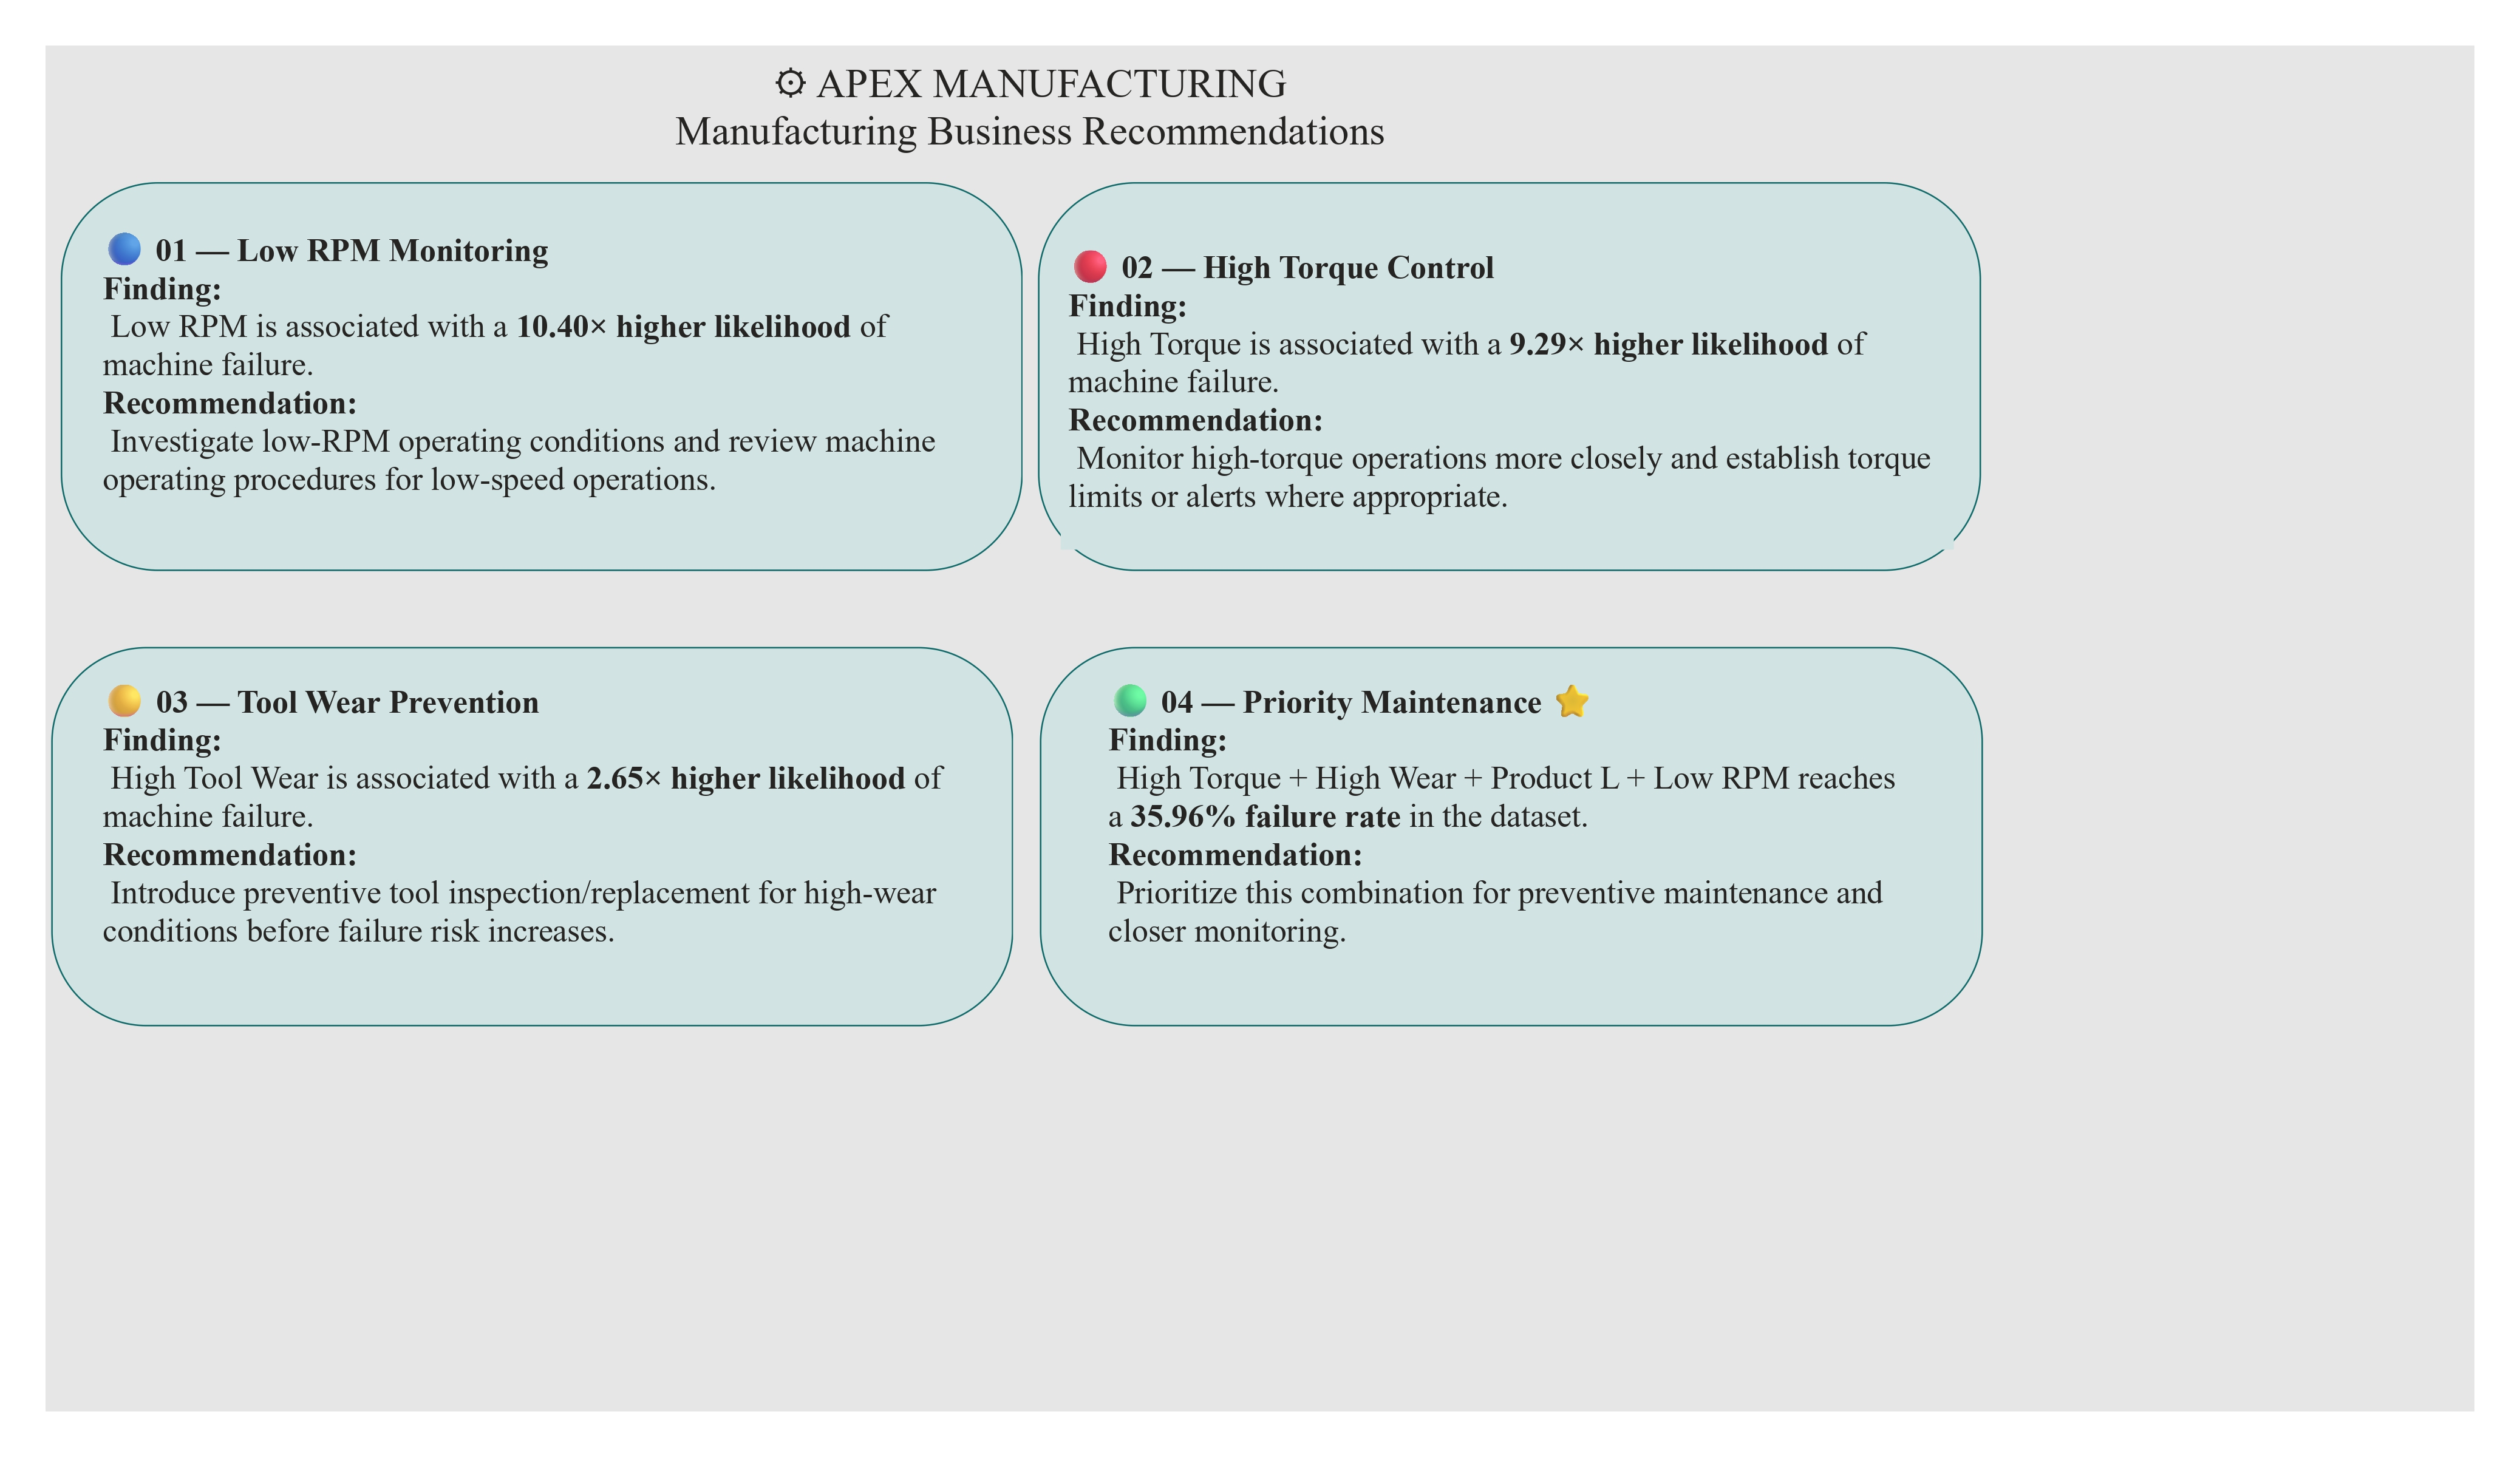

Layout of this report page (visuals, bound fields, positions):
{"tool":"powerbi","page":{"name":"Business Recommendations","canvas":[1280,720],"ordinal":4},"visuals":[{"type":"shape","box":[9.9,89.5,630.2,254.8],"z":0},{"type":"textbox","box":[32.3,113.1,574.2,188.9],"z":1},{"type":"shape","box":[650.1,89.5,617.8,254.8],"z":2},{"type":"textbox","box":[665,124.3,585.4,206.3],"z":3},{"type":"shape","box":[3.7,394,630.2,248.6],"z":4},{"type":"shape","box":[651.3,394,617.8,248.6],"z":5},{"type":"textbox","box":[32.3,408.9,574.2,205.1],"z":6},{"type":"textbox","box":[691.1,408.9,535.7,205.1],"z":7},{"type":"textbox","box":[9.9,0,1270.3,89.5],"z":8}]}

Visuals, with their boxes on the page's 1280x720 design canvas (x1, y1, x2, y2). These are canvas units, not pixel positions in the 2520x1457 screenshot, which may show the page scaled, cropped or inside an application window:
shape: (x1=10, y1=90, x2=640, y2=344)
textbox: (x1=32, y1=113, x2=606, y2=302)
shape: (x1=650, y1=90, x2=1268, y2=344)
textbox: (x1=665, y1=124, x2=1250, y2=331)
shape: (x1=4, y1=394, x2=634, y2=643)
shape: (x1=651, y1=394, x2=1269, y2=643)
textbox: (x1=32, y1=409, x2=606, y2=614)
textbox: (x1=691, y1=409, x2=1227, y2=614)
textbox: (x1=10, y1=0, x2=1280, y2=90)
